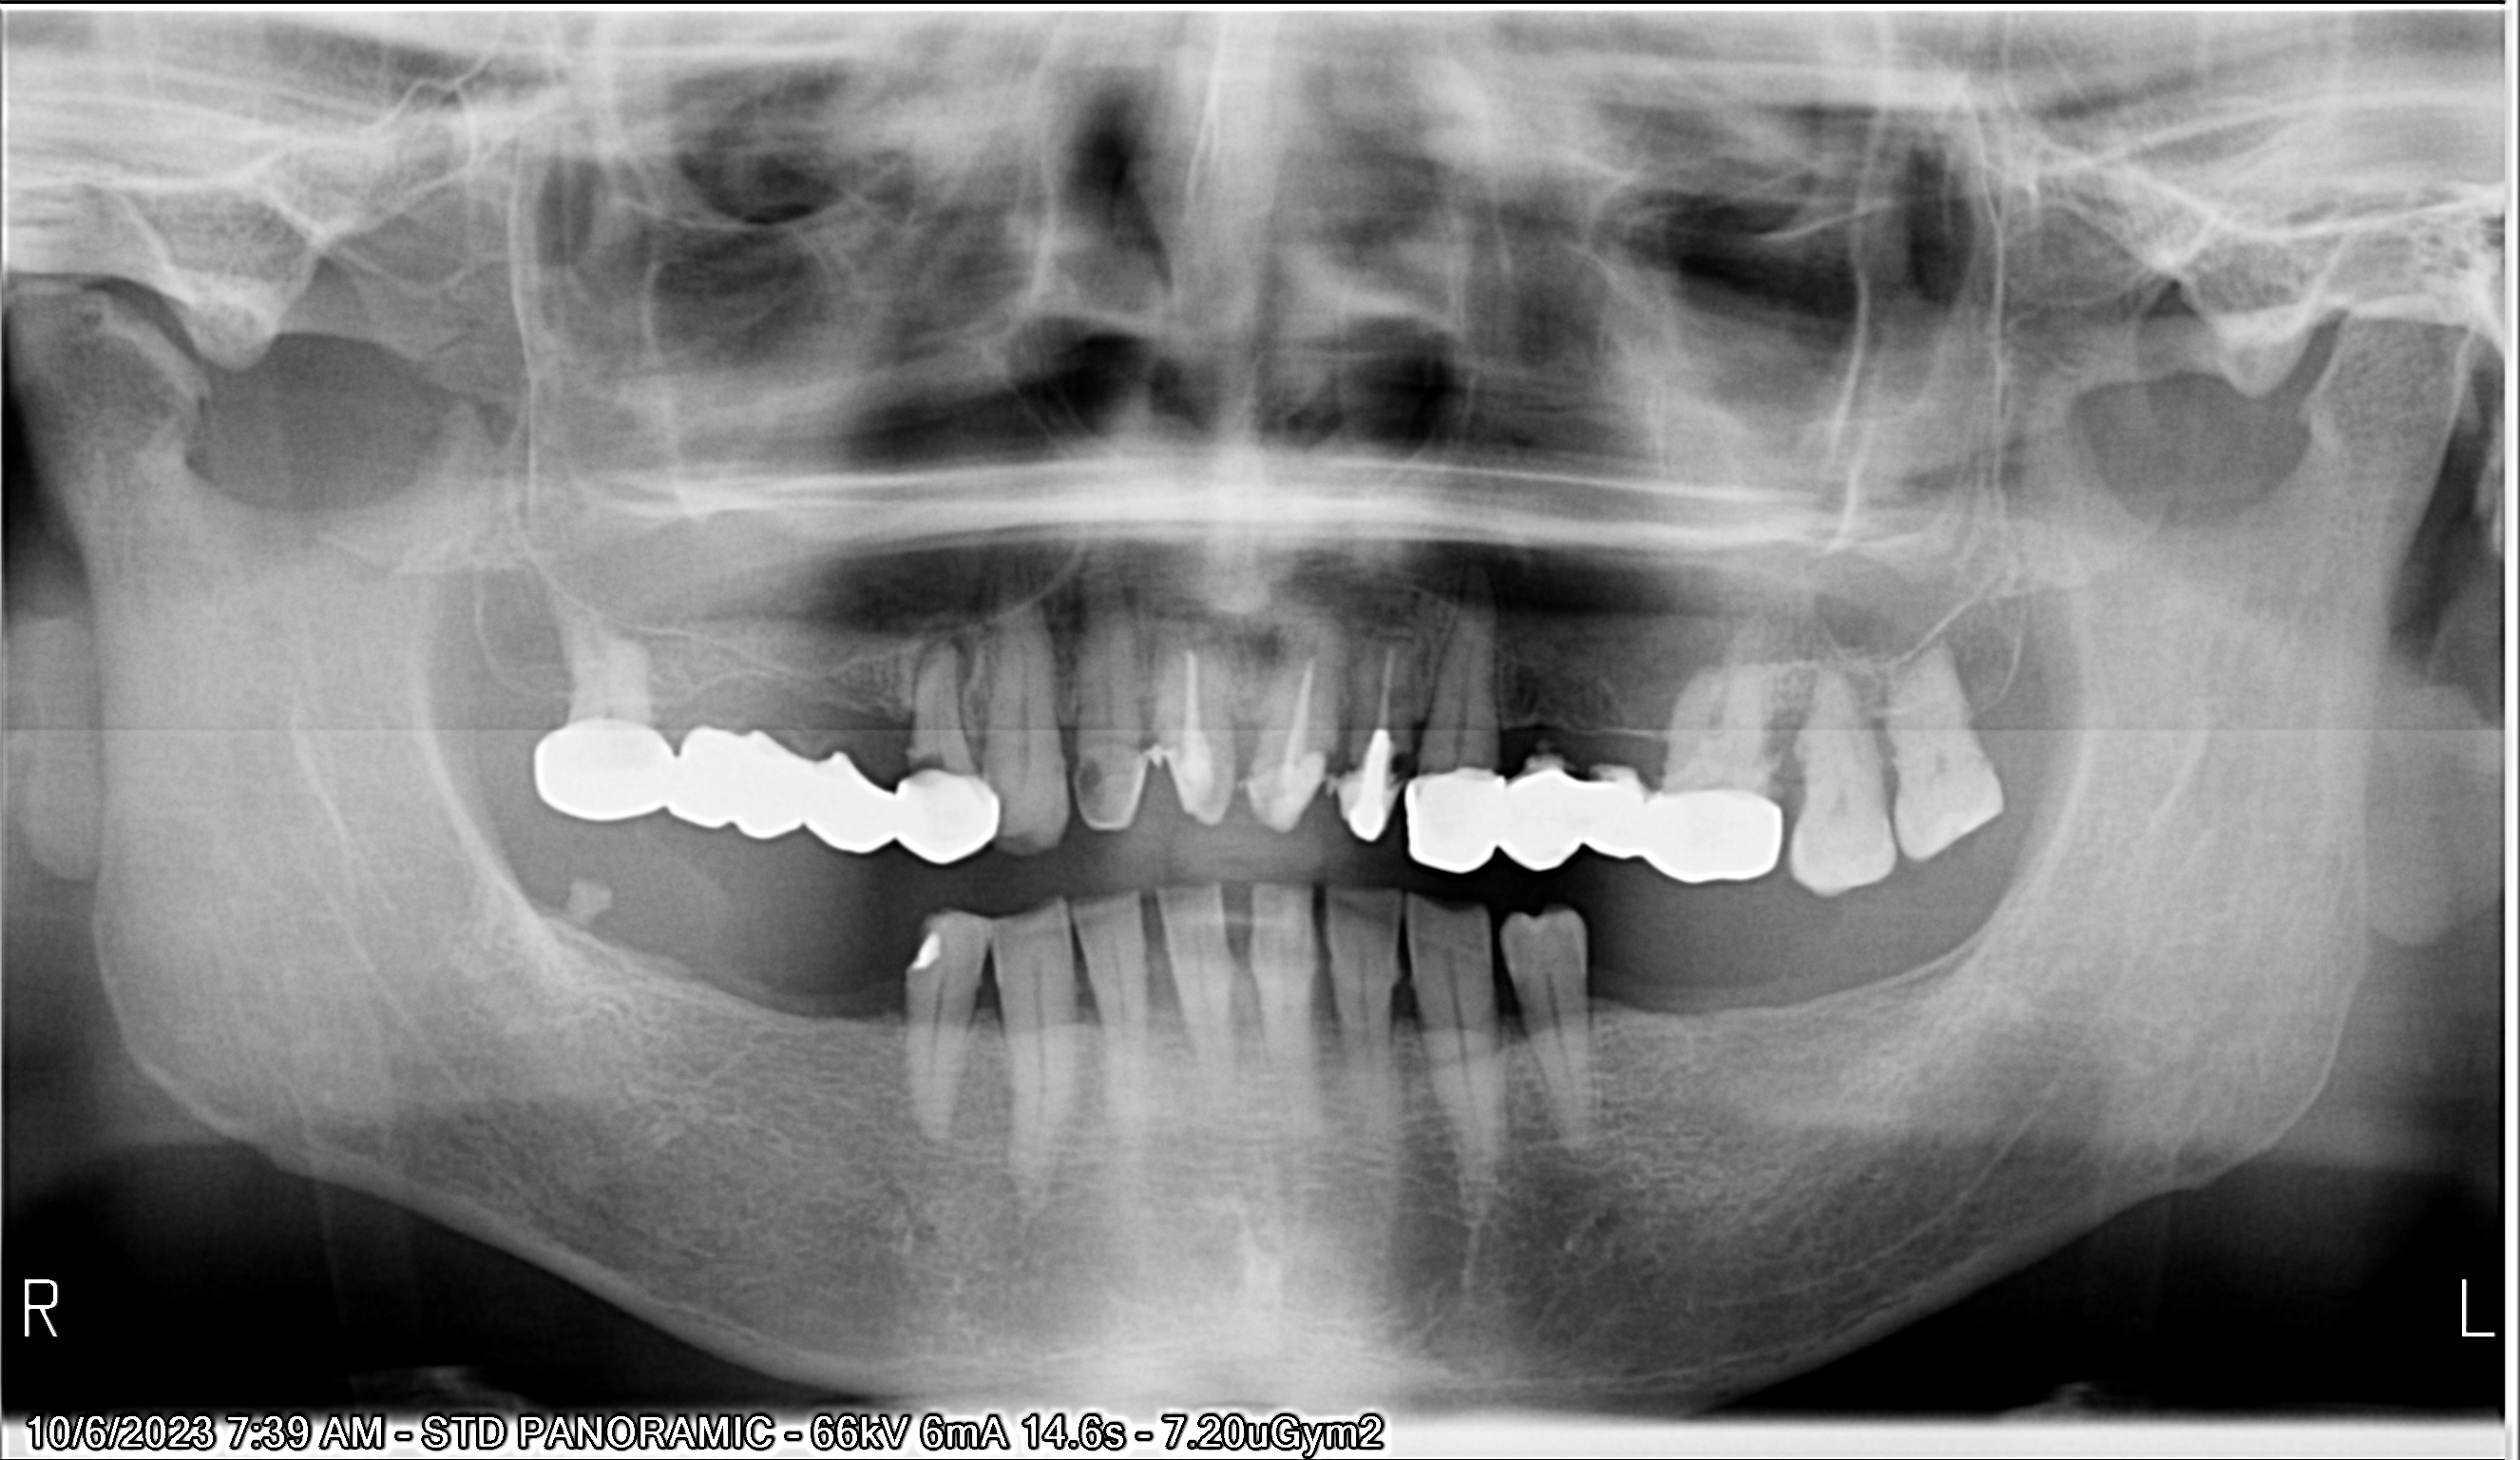API: (896, 601, 992, 716)
BON: (1751, 688, 1817, 773), (1853, 690, 1914, 772), (1049, 676, 1092, 777), (1391, 681, 1441, 765), (1223, 949, 1268, 1038), (1134, 966, 1191, 1034), (1299, 965, 1348, 1041), (1065, 970, 1115, 1043), (1384, 959, 1424, 1045), (1480, 984, 1532, 1048), (962, 987, 1006, 1046), (1127, 687, 1164, 739)
CAR: (882, 739, 960, 791), (1375, 739, 1417, 787), (1339, 749, 1370, 789), (1313, 732, 1341, 765)
END: (1270, 636, 1336, 747), (1351, 617, 1414, 733), (1160, 638, 1221, 746)
OBT: (1249, 751, 1322, 841), (1165, 728, 1224, 813), (900, 916, 960, 987)
PRR: (502, 704, 1021, 893), (1389, 753, 1775, 893)
ROT: (547, 857, 636, 942)
